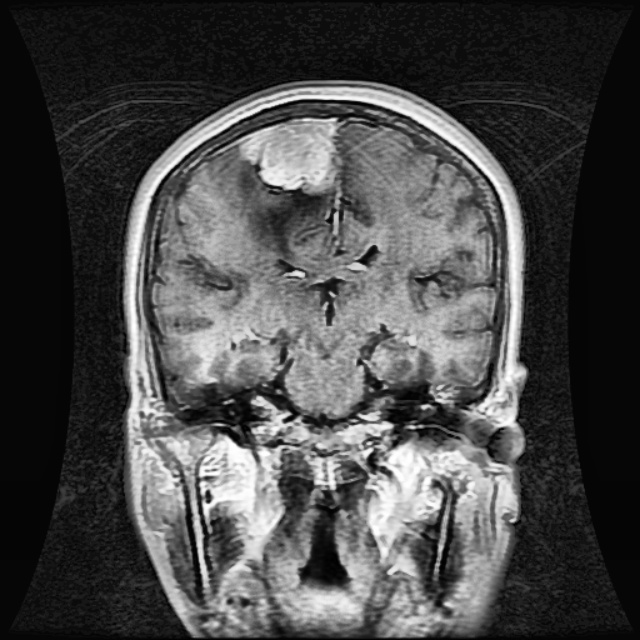Glioma: (235, 115, 342, 189)
